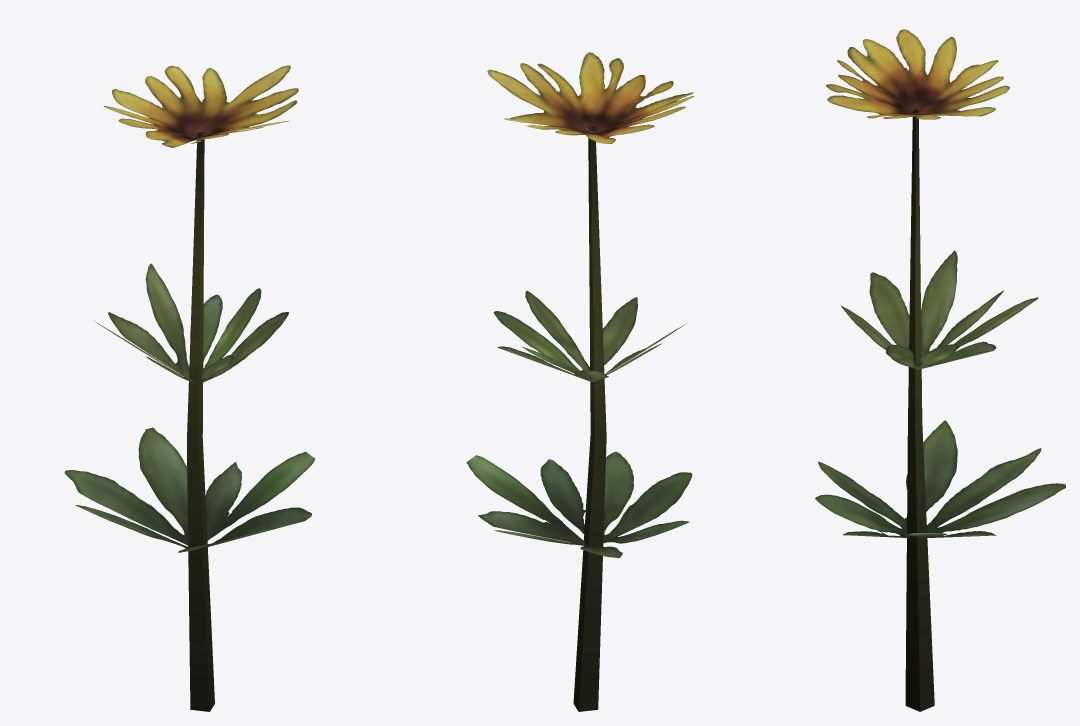
File: flower_s03.fbx
The picture shows the model from 3 angles, left to right: view 1: azimuth 30°, elevation 25°; view 2: azimuth 150°, elevation 25°; view 3: azimuth 270°, elevation 25°; orthographic projection. The views are drawn at different scales.
Visible parts, largest first — view 1: flower_s03; view 2: flower_s03; view 3: flower_s03.
Boxes of the visible parts, x1,y1,x2,y2 form: flower_s03: (64,65,314,711); flower_s03: (466,52,693,711); flower_s03: (815,29,1065,711).
Size of the model in its own units: 13.53 by 35.05 by 13.53.
